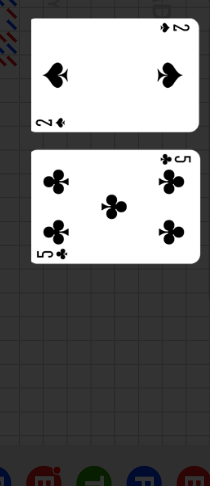2S: (35, 116, 68, 129)
5C: (35, 247, 70, 261)
